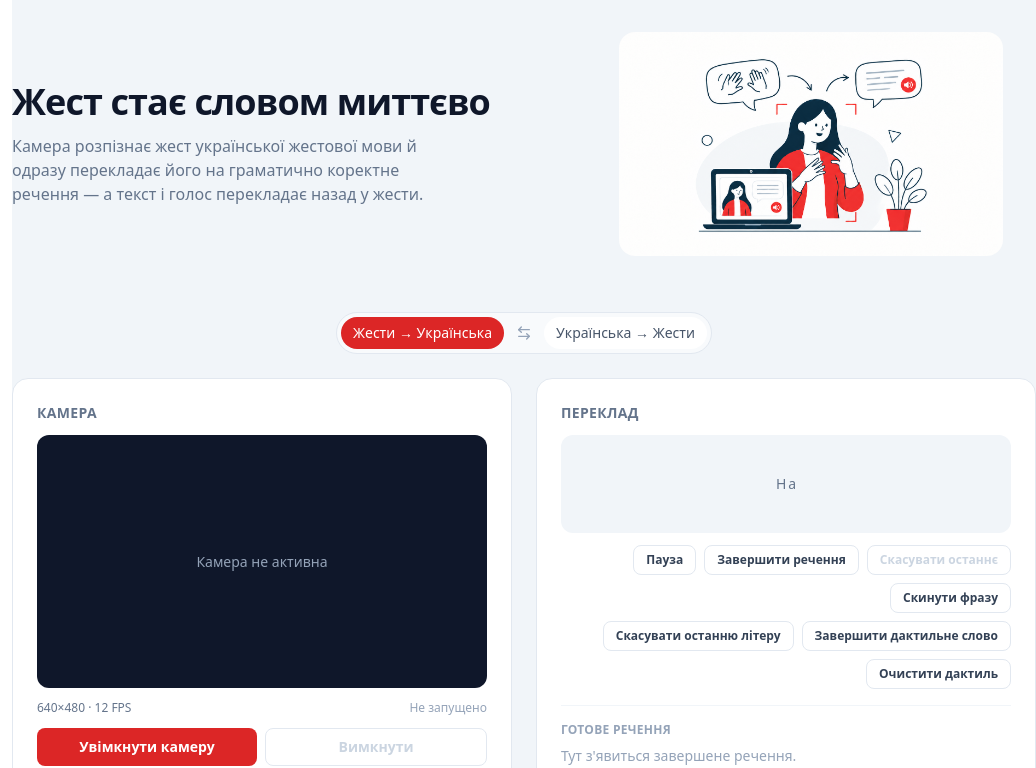
Test: TranslatorView › 'Скасувати останню літеру' removes only the last letter of the in-progress fingerspelled word
Check: the element with test id "live-sentence-status" reads "Н а", box [561,435,1011,533]
Click the button "Скасувати останню літеру" at (698, 636), box [603,621,794,651]
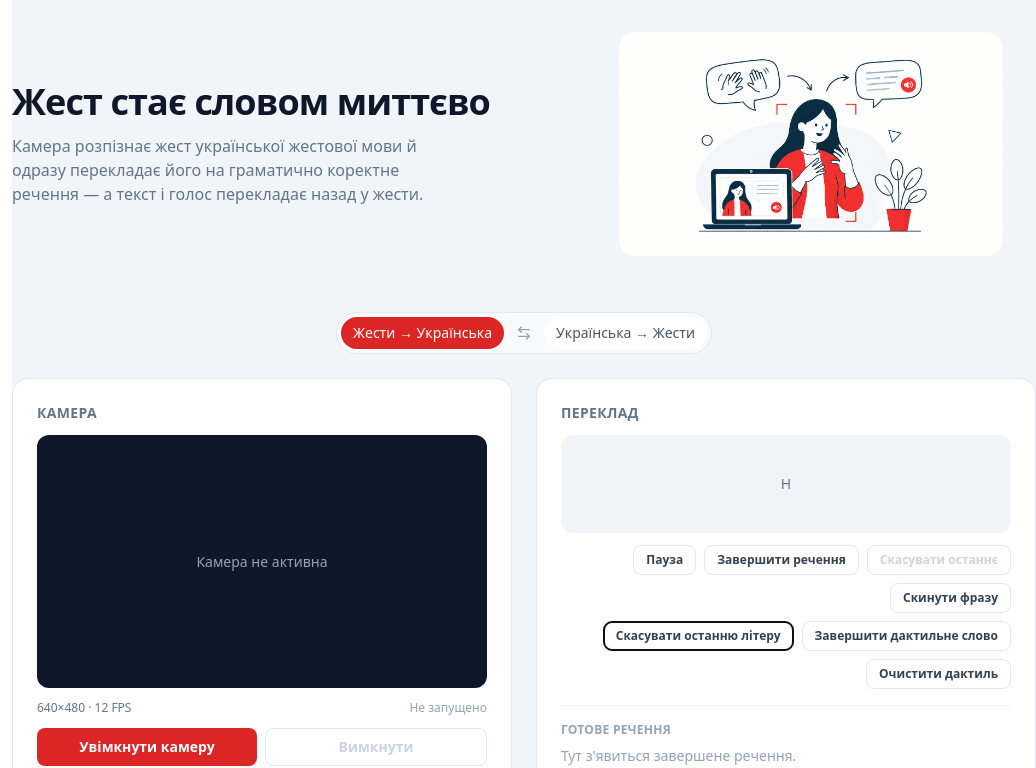
Check: the element with test id "live-sentence-status" does not show "На"
Check: the element with test id "live-sentence-status" reads "Н", box [781,474,791,493]
